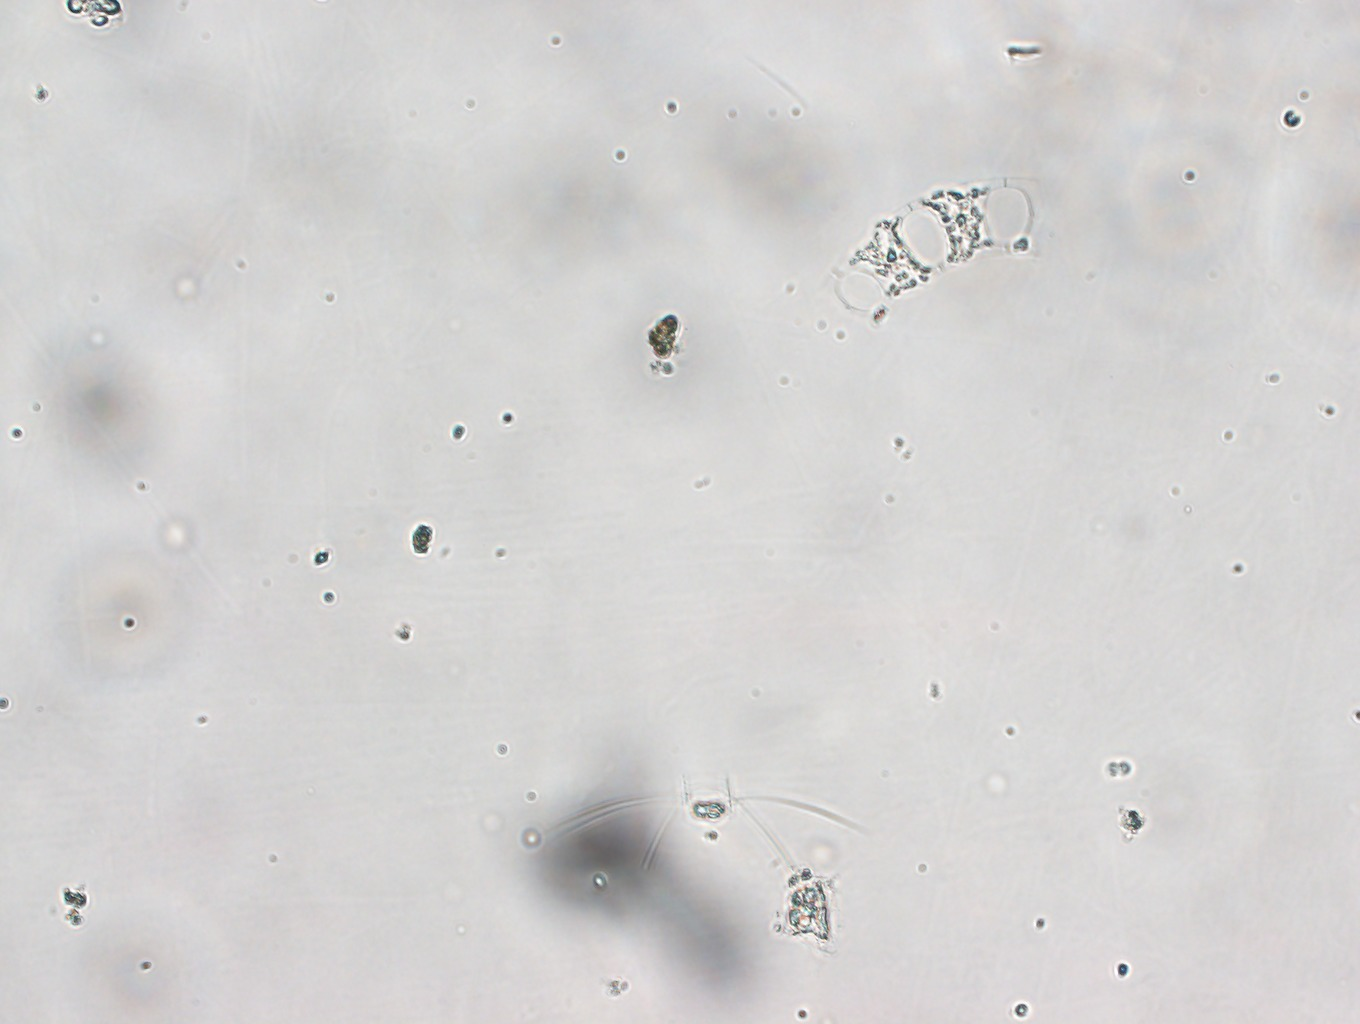chaetoceros: (545, 766, 874, 884)
eucampia: (810, 165, 1051, 347)
